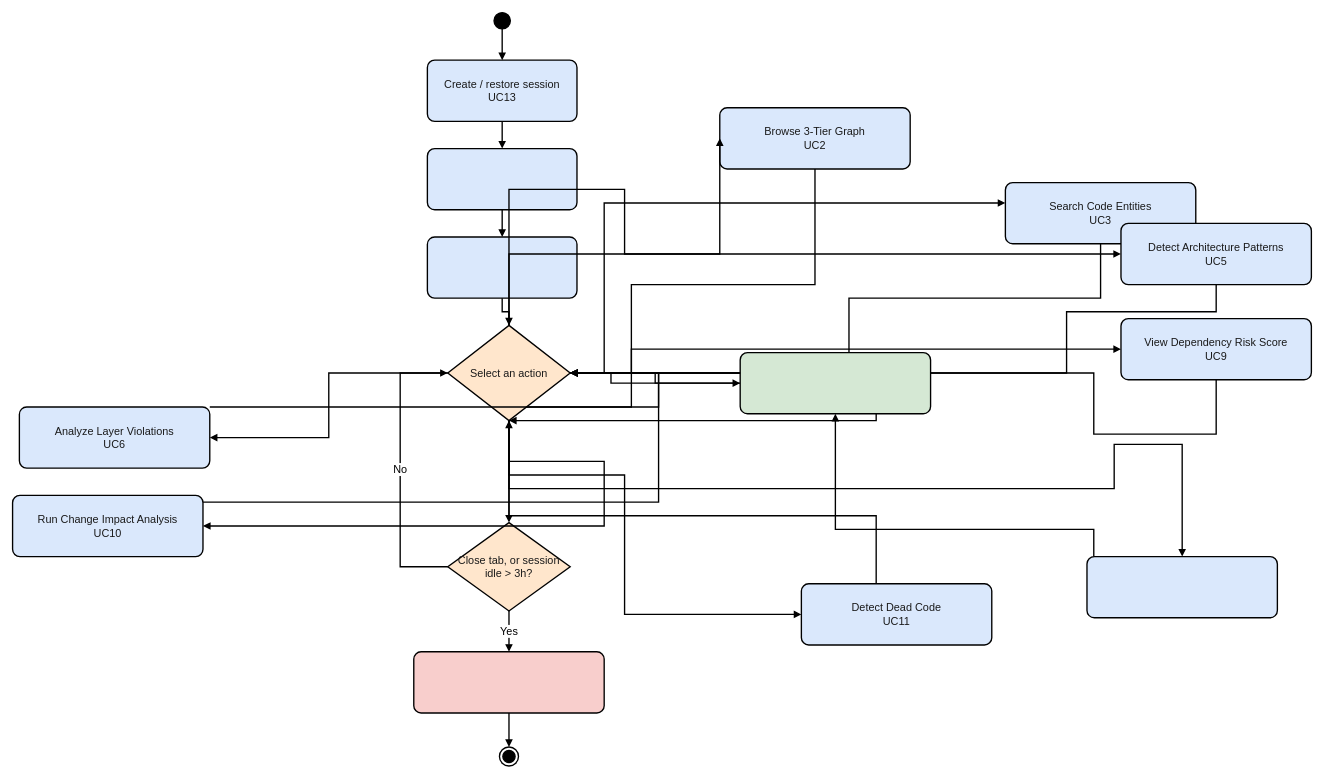
This 1323x778 diagram has some shape labels left out. The shapes that lost their labels are listed below. From the top down, each one's centre as x and y in pixels, then its label:
At (x=501, y=179): "Upload source code UC1".
At (x=501, y=267): "Parse & build 3-tier code graph".
At (x=835, y=383): "Smell Analysis + AI Refactor Plan UC7, UC8 — see 4.3".
At (x=1182, y=587): "View Git History & Quality Trend — UC12".
At (x=509, y=682): "End / expire session cleanup Neo4j + disk + cache UC13".
